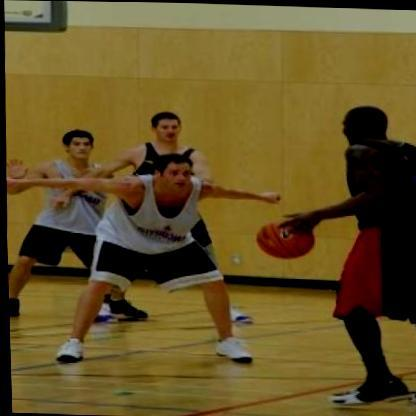basketball: (247, 210, 319, 263)
